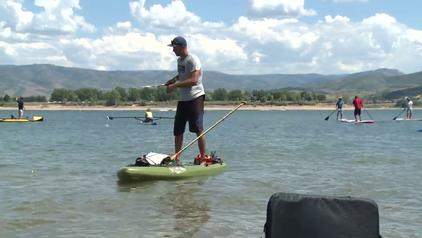sit: (12, 97, 28, 115)
stay: (328, 97, 342, 122), (334, 96, 346, 121), (354, 95, 362, 124)
walk: (169, 40, 201, 161), (395, 100, 413, 119), (334, 96, 346, 121)
